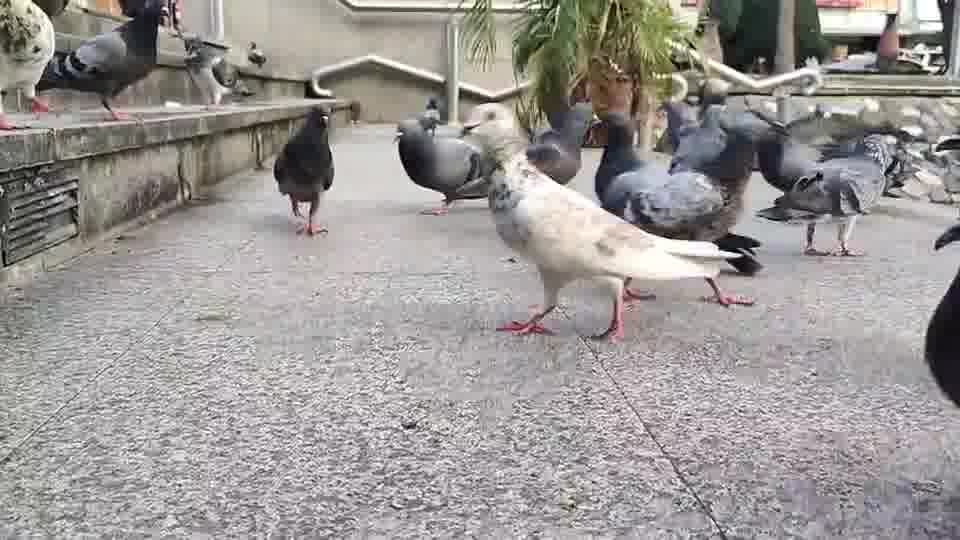Pigeon: (455, 118, 751, 344), (589, 112, 760, 311), (748, 106, 909, 256), (35, 0, 175, 121), (392, 114, 489, 215), (272, 105, 335, 236), (0, 0, 57, 130), (923, 221, 959, 408), (170, 29, 254, 107), (524, 100, 591, 185)
